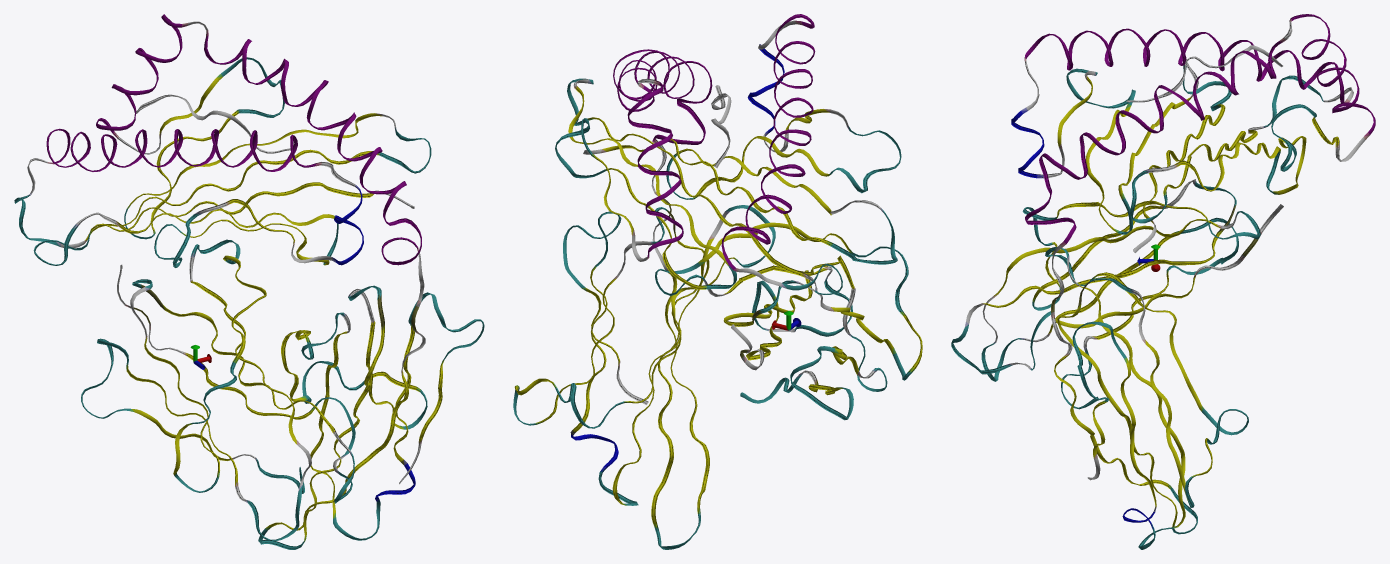
Rendered from 2vaa-newRibbons3.obj.
3 renders of one model, left to right at view 1: azimuth 30°, elevation 25°; view 2: azimuth 150°, elevation 25°; view 3: azimuth 270°, elevation 25°, orthographic. The views are drawn at different scales.
Visible parts, largest first — view 1: vmd_mol0_rep0; view 2: vmd_mol0_rep0; view 3: vmd_mol0_rep0.
Part boxes in pixels (bbox=[...]): vmd_mol0_rep0: bbox=[14, 14, 484, 549]; vmd_mol0_rep0: bbox=[513, 14, 922, 549]; vmd_mol0_rep0: bbox=[951, 14, 1375, 549].
Size of the model in its own units: 5.85 by 7.29 by 5.71.
